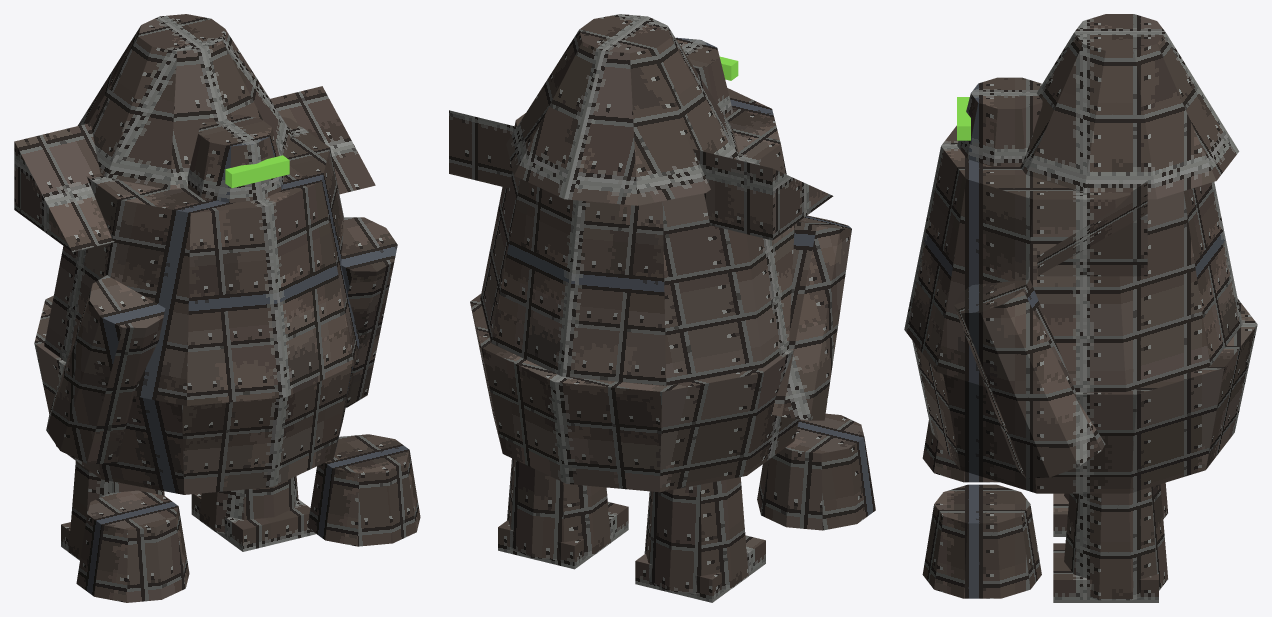
The model's file is enemy_brute_squat.glb.
3 renders of one model, left to right at view 1: azimuth 30°, elevation 25°; view 2: azimuth 150°, elevation 25°; view 3: azimuth 270°, elevation 25°, orthographic. The views are drawn at different scales.
Visible parts, largest first — view 1: enemy_brute_squat; view 2: enemy_brute_squat; view 3: enemy_brute_squat.
Boxes of the visible parts, x1,y1,x2,y2 form: enemy_brute_squat: [14, 14, 420, 602]; enemy_brute_squat: [449, 14, 875, 602]; enemy_brute_squat: [904, 14, 1257, 602].
Size of the model in its own units: 1.69 by 2.5 by 1.54.
2 materials, 1 textured.
